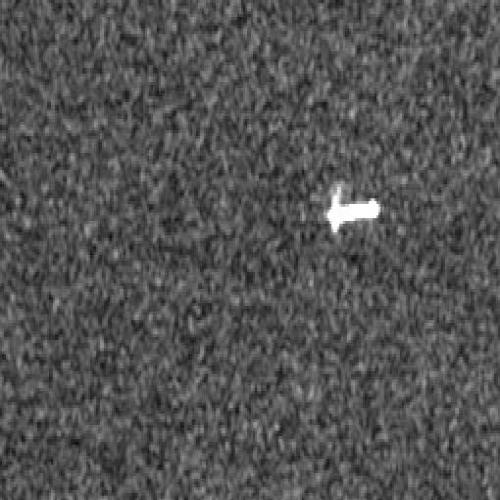ship: (326, 189, 381, 234)
